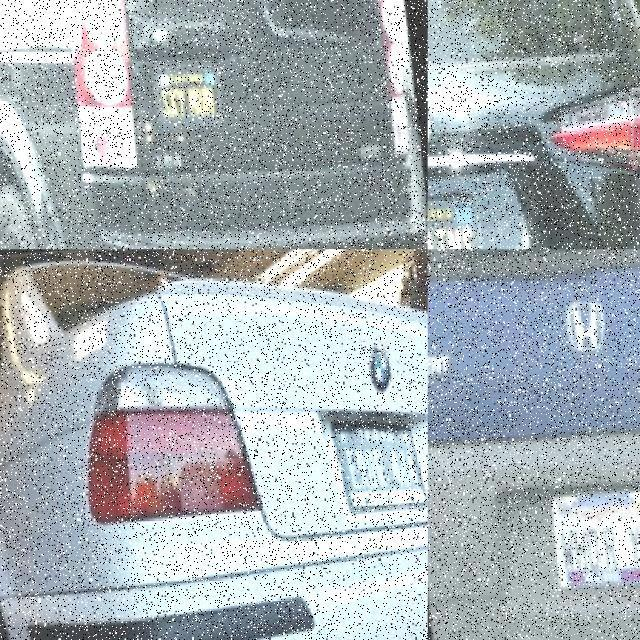LicensePlate: (549, 477, 640, 599), (328, 418, 427, 508), (152, 54, 223, 133), (428, 180, 486, 249)
